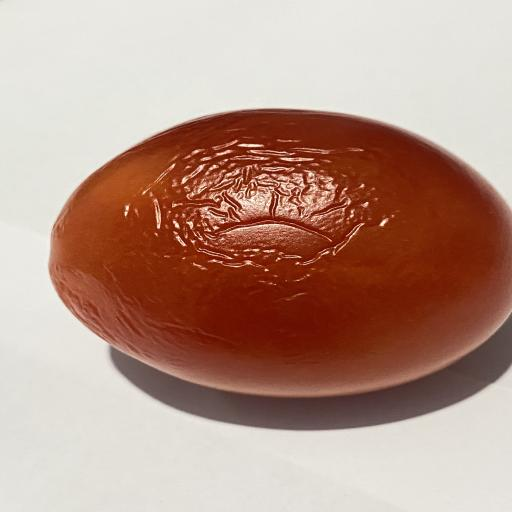spoiled: (49, 110, 512, 397)
